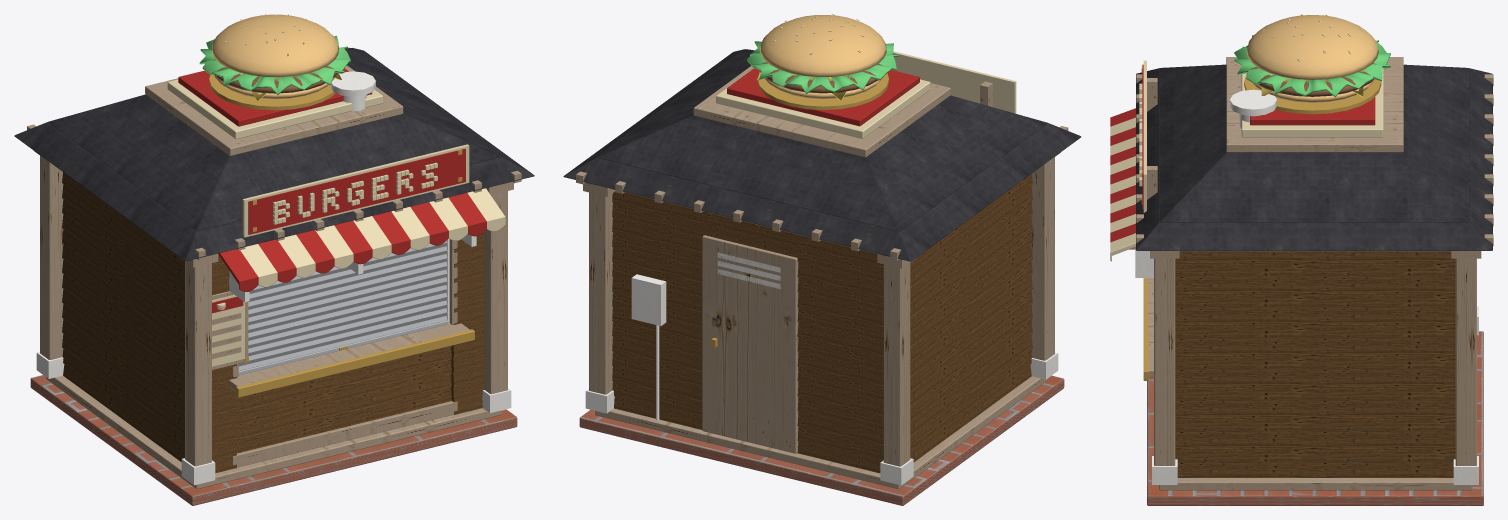
The model's file is burger.glb.
3 views of the same model, side by side, from view 1: azimuth 30°, elevation 25°; view 2: azimuth 150°, elevation 25°; view 3: azimuth 270°, elevation 25° (orthographic). The views are drawn at different scales.
Parts seen in each view (by area): view 1: Static_GroundRoot_boards_cream, Static_GroundRoot_roof_terracotta, Static_GroundRoot_timber, Static_ClosedShutter_mat_burger_shutter, Plinth_Foundation, Static_GroundRoot_paint_red, Static_GroundRoot_mat_burger_bun, Static_FrontAwning_paint_red, Static_FrontAwning_cream, Static_GroundRoot_cream, Static_GroundRoot_brass, Static_GroundRoot_metal (+5 smaller); view 2: Static_GroundRoot_boards_cream, Static_GroundRoot_timber, Static_GroundRoot_roof_terracotta, Plinth_Foundation, Static_GroundRoot_mat_burger_bun, Static_GroundRoot_cream, Static_GroundRoot_metal, Static_GroundRoot_paint_red, Burger_Lettuce, Static_GroundRoot_brass, Burger_Patty; view 3: Static_GroundRoot_boards_cream, Static_GroundRoot_roof_terracotta, Static_GroundRoot_timber, Static_GroundRoot_mat_burger_bun, Plinth_Foundation, Static_GroundRoot_cream, Static_GroundRoot_metal, Burger_Lettuce, Static_GroundRoot_paint_red, Static_GroundRoot_brass, Static_FrontAwning_cream, Static_FrontAwning_paint_red (+1 smaller).
Boxes of the visible parts, x1,y1,x2,y2 form: Static_GroundRoot_boards_cream: (62, 172, 484, 473); Static_GroundRoot_roof_terracotta: (14, 48, 534, 261); Static_GroundRoot_timber: (27, 47, 521, 489); Static_ClosedShutter_mat_burger_shutter: (238, 240, 448, 375); Plinth_Foundation: (30, 375, 517, 505); Static_GroundRoot_paint_red: (178, 68, 465, 234); Static_GroundRoot_mat_burger_bun: (211, 14, 338, 99); Static_FrontAwning_paint_red: (218, 193, 486, 291); Static_FrontAwning_cream: (240, 188, 505, 287); Static_GroundRoot_cream: (167, 14, 469, 237); Static_GroundRoot_brass: (209, 75, 474, 397); Static_GroundRoot_metal: (36, 71, 511, 485); Static_GroundRoot_boards_cream: (612, 174, 1032, 473); Static_GroundRoot_timber: (576, 65, 1068, 489); Static_GroundRoot_roof_terracotta: (563, 49, 1081, 261); Plinth_Foundation: (579, 375, 1064, 505); Static_GroundRoot_mat_burger_bun: (760, 15, 886, 98); Static_GroundRoot_cream: (716, 14, 1016, 138); Static_GroundRoot_metal: (585, 252, 1058, 485); Static_GroundRoot_paint_red: (727, 68, 919, 126); Burger_Lettuce: (747, 41, 899, 94); Static_GroundRoot_brass: (711, 71, 888, 347); Burger_Patty: (760, 62, 882, 93); Static_GroundRoot_boards_cream: (1175, 251, 1455, 477); Static_GroundRoot_roof_terracotta: (1136, 64, 1492, 250); Static_GroundRoot_timber: (1129, 57, 1493, 490); Static_GroundRoot_mat_burger_bun: (1246, 15, 1378, 102); Plinth_Foundation: (1147, 331, 1483, 505); Static_GroundRoot_cream: (1143, 14, 1383, 212); Static_GroundRoot_metal: (1135, 89, 1478, 484); Burger_Lettuce: (1234, 35, 1390, 97); Static_GroundRoot_paint_red: (1142, 64, 1375, 208); Static_GroundRoot_brass: (1141, 66, 1381, 380); Static_FrontAwning_cream: (1110, 117, 1135, 261); Static_FrontAwning_paint_red: (1110, 108, 1135, 242).
Size of the model in its own units: 3.55 by 3.71 by 3.24.
13 materials, 5 textured.
